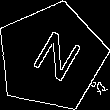N_SW: (21, 25, 82, 89)
